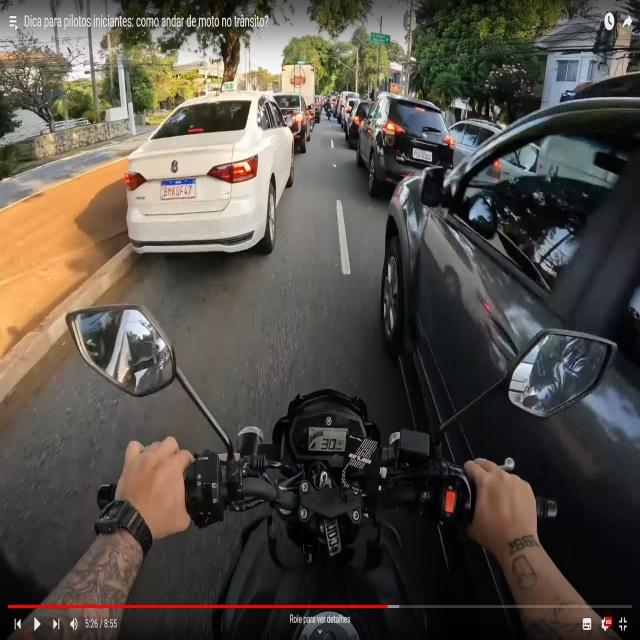Placa_mercosul_carro: (160, 178, 196, 200)
